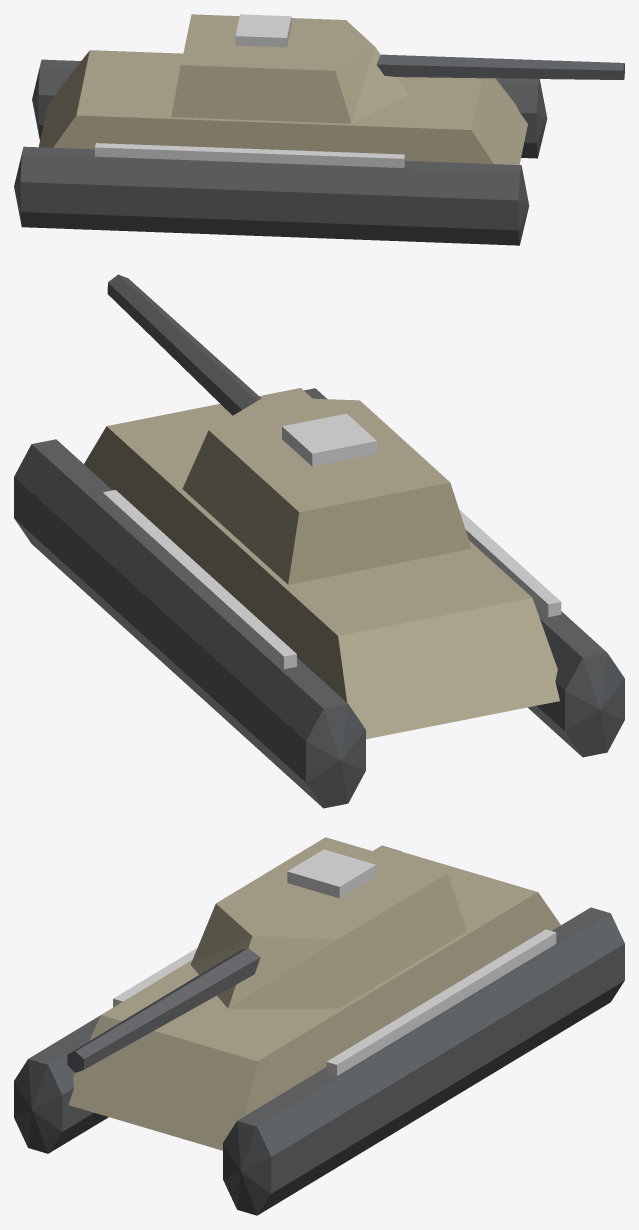
File: modern-armor.glb
3 views of the same model, one above another, from view 1: azimuth 30°, elevation 25°; view 2: azimuth 150°, elevation 25°; view 3: azimuth 270°, elevation 25° (orthographic). The views are drawn at different scales.
Parts seen in each view (by area): view 1: LOD0; view 2: LOD0; view 3: LOD0.
Part boxes in pixels (left/top/right/bottom): LOD0: left=14, top=14, right=624, bottom=245; LOD0: left=14, top=274, right=624, bottom=808; LOD0: left=14, top=837, right=624, bottom=1215.
Size of what is drawn, in the model's own units: 1.31 by 0.4144 by 1.15.
